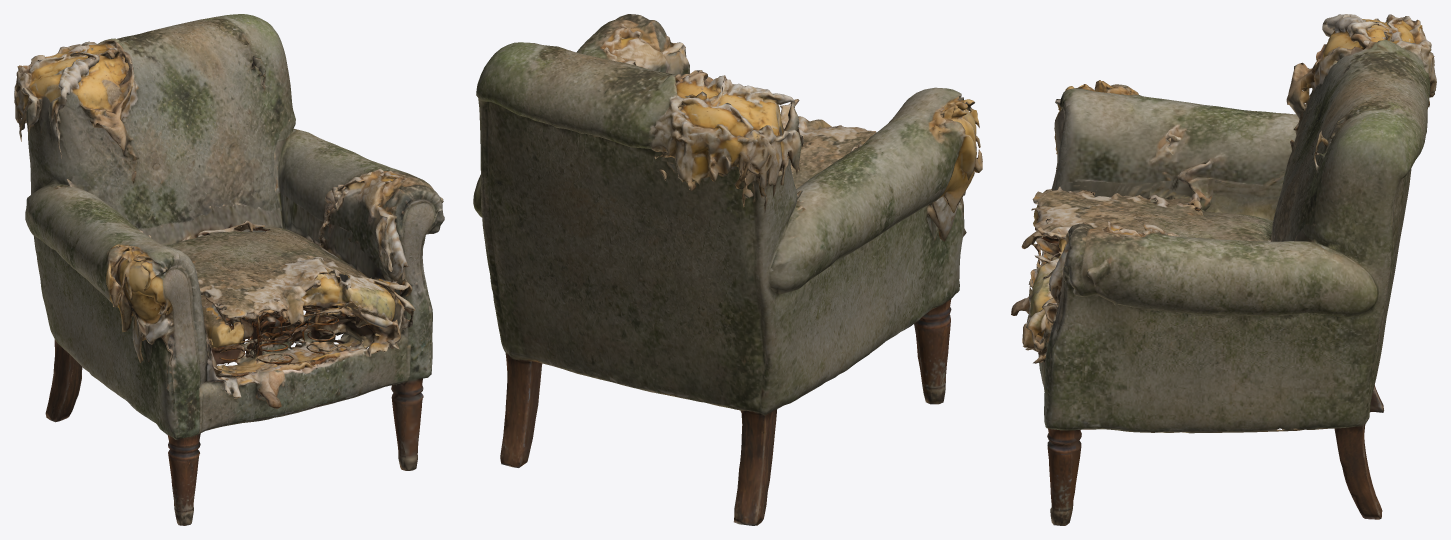
The model's file is Armchair.fbx.
3 renders of one model, left to right at view 1: azimuth 30°, elevation 25°; view 2: azimuth 150°, elevation 25°; view 3: azimuth 270°, elevation 25°, orthographic. The views are drawn at different scales.
Visible parts, largest first — view 1: texture_mapping; view 2: texture_mapping; view 3: texture_mapping.
Part boxes in pixels (<box>): texture_mapping: <box>14,14,444,525</box>; texture_mapping: <box>473,14,982,525</box>; texture_mapping: <box>1011,14,1436,525</box>.
Size of the model in its own units: 0.9558 by 0.9646 by 1.
Materials: 1 (1 with a texture image).
